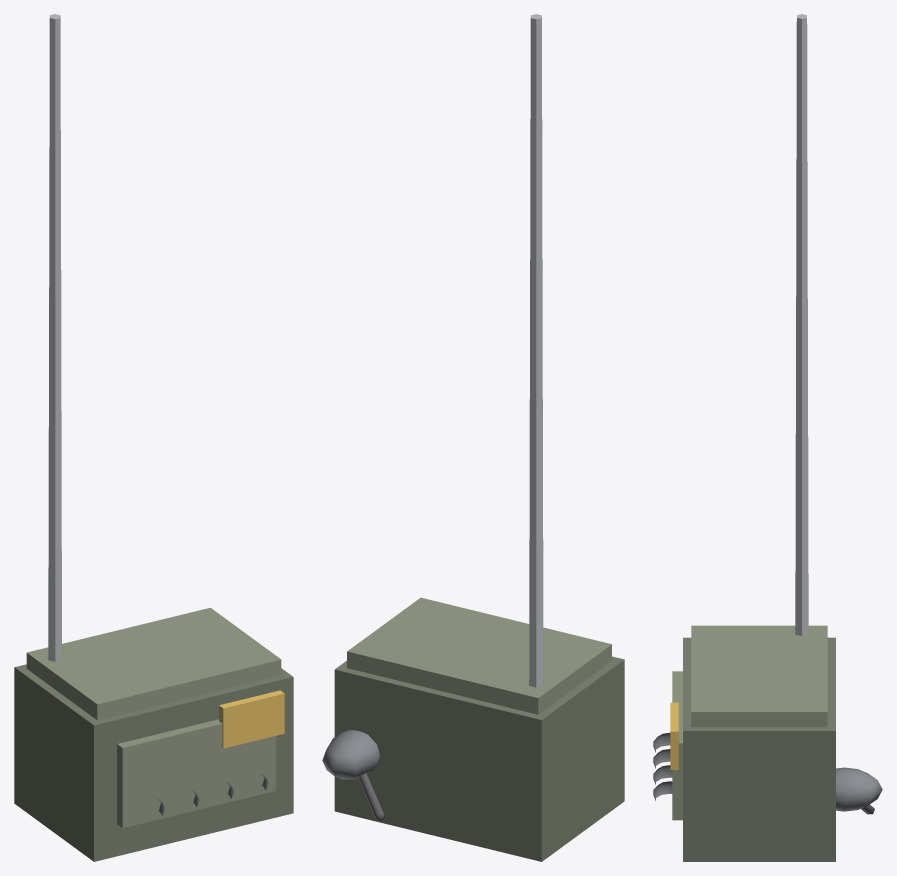
Rendered from armoured-column-and-field-camp-radio-set-e2dd3ccc__23723.glb.
The picture shows the model from 3 angles, left to right: view 1: azimuth 30°, elevation 25°; view 2: azimuth 150°, elevation 25°; view 3: azimuth 270°, elevation 25°; orthographic projection. The views are drawn at different scales.
Visible parts, largest first — view 1: radio-set; view 2: radio-set; view 3: radio-set.
Boxes of the visible parts, <box> form: radio-set: <box>14,14,293,861</box>; radio-set: <box>322,14,624,861</box>; radio-set: <box>653,14,882,861</box>.
Bounding box in the file's own units: 0.52 × 1.98 × 0.5399.
